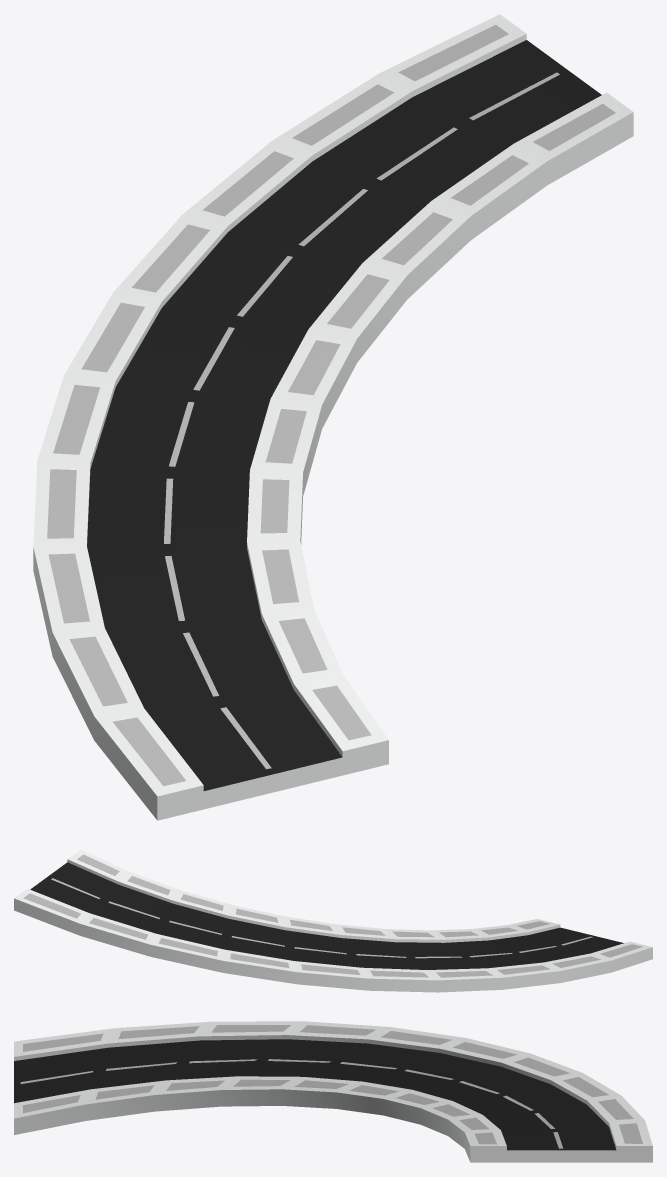
The model's file is duong len doc dai.fbx.
3 views of the same model, one above another, from view 1: azimuth 30°, elevation 25°; view 2: azimuth 150°, elevation 25°; view 3: azimuth 270°, elevation 25° (orthographic). The views are drawn at different scales.
Visible parts, largest first — view 1: duong_len_doc_dai; view 2: duong_len_doc_dai; view 3: duong_len_doc_dai.
Part boxes in pixels (x1,y1,x2,y2): duong_len_doc_dai: (33, 14, 633, 820); duong_len_doc_dai: (14, 849, 652, 992); duong_len_doc_dai: (14, 1021, 652, 1162).
Size of the model in its own units: 70 by 22 by 70.
1 material, 1 textured.
